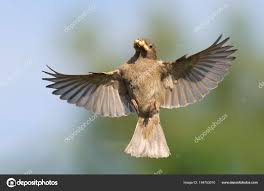hsparrow: (40, 32, 244, 162)
